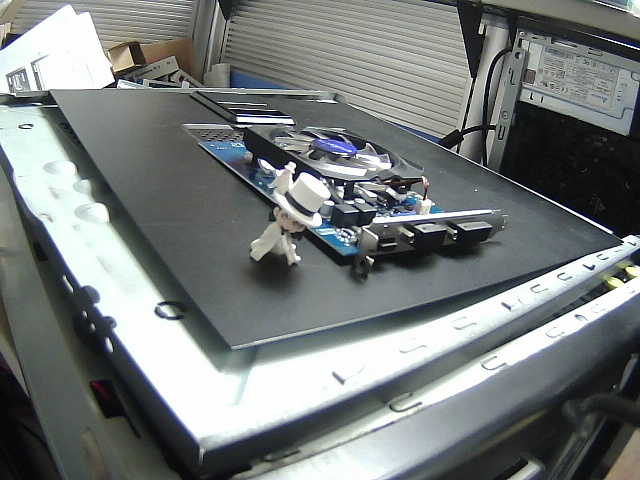lucci: (244, 158, 333, 278)
